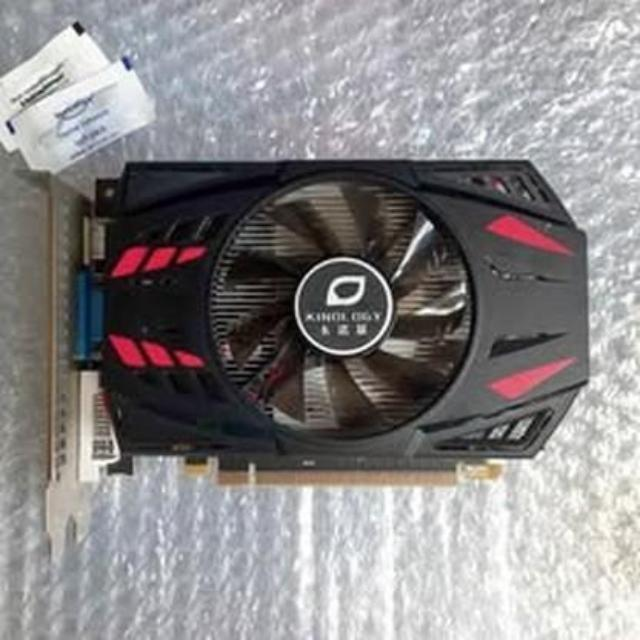GPU: (38, 154, 598, 483)
